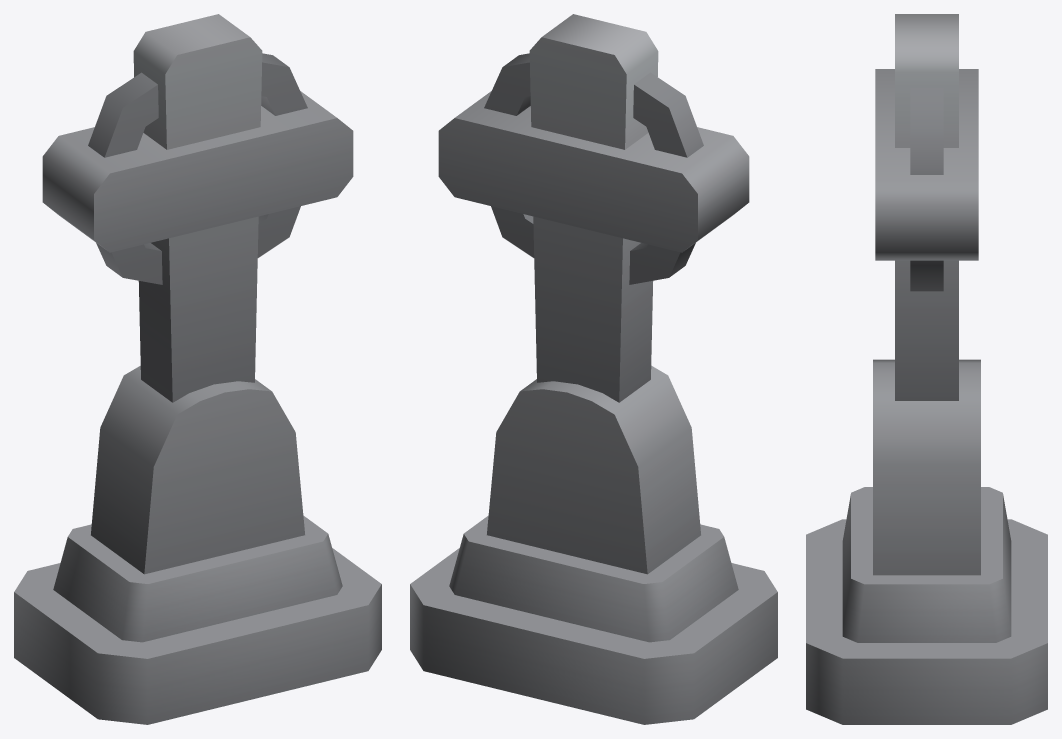
File: gravestone-cross-large.glb
The picture shows the model from 3 angles, left to right: view 1: azimuth 30°, elevation 25°; view 2: azimuth 150°, elevation 25°; view 3: azimuth 270°, elevation 25°; orthographic projection.
Parts seen in each view (by area): view 1: gravestone-cross-large; view 2: gravestone-cross-large; view 3: gravestone-cross-large.
Part boxes in pixels (x1=…): gravestone-cross-large: x1=14, y1=14, x2=381, y2=724; gravestone-cross-large: x1=410, y1=14, x2=777, y2=724; gravestone-cross-large: x1=806, y1=14, x2=1047, y2=724.
Size of the model in its own units: 0.675 by 1.41 by 0.495.
1 material, 1 textured.
